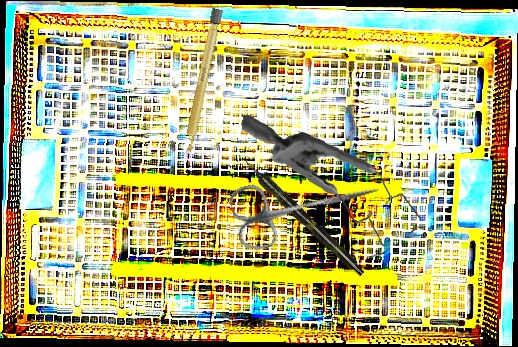Handpiece: (240, 155, 368, 280)
Iris Scissors: (227, 155, 386, 254)
Scalpel Handle: (181, 7, 223, 158)
Speculum: (233, 114, 428, 262)
